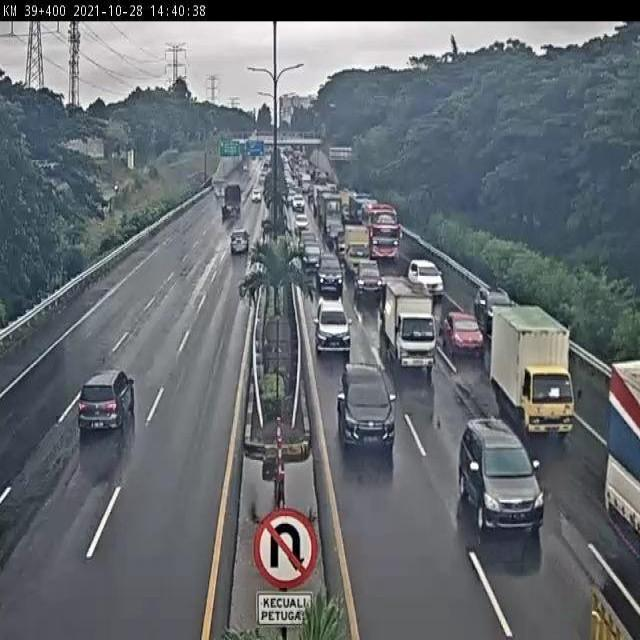car: (460, 418, 545, 530), (339, 360, 394, 441), (76, 371, 135, 429), (472, 280, 514, 333), (314, 300, 355, 352), (440, 311, 485, 356), (405, 255, 446, 297), (315, 252, 345, 297), (353, 258, 380, 294), (229, 227, 249, 253)
truck-m-: (490, 304, 578, 436)
truck-s-: (382, 280, 438, 375)
